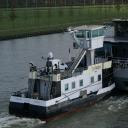tugboat: (8, 22, 118, 124)
